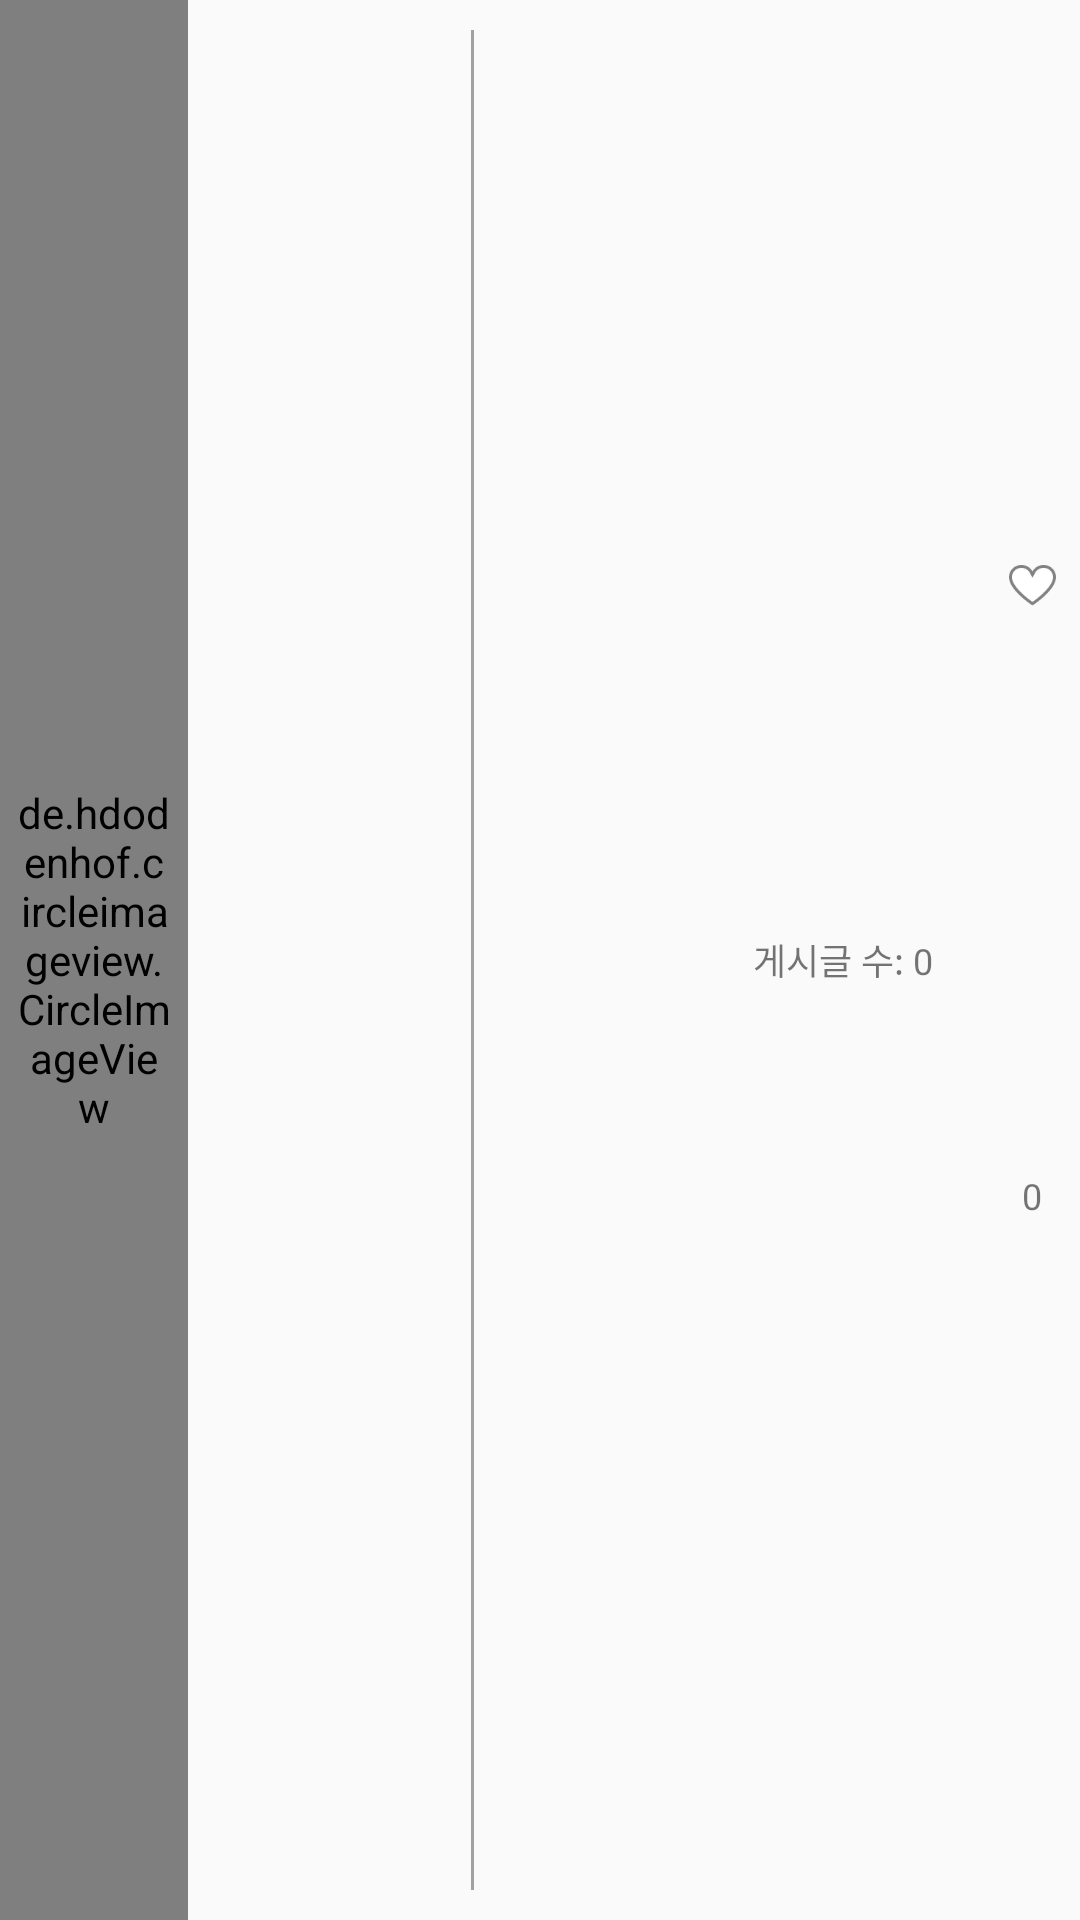

Where icons sit on this 1080 × 1920 app screen, as (x1, y1, x2, y2):
follow empty: (1009, 565, 1056, 606)
